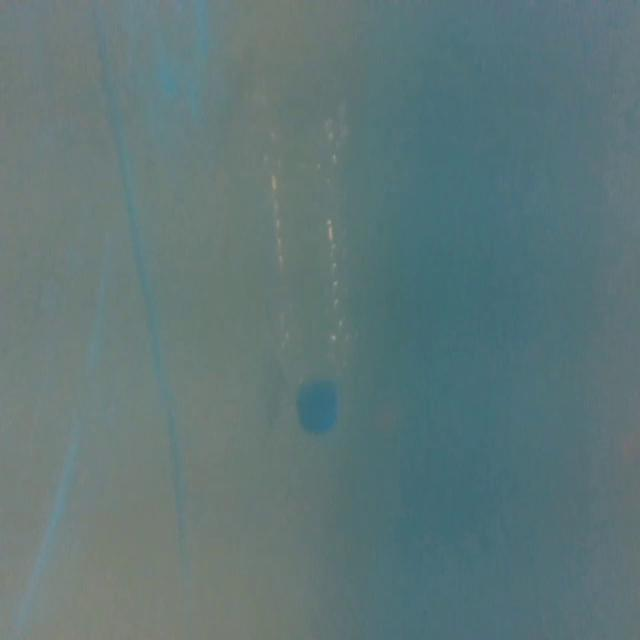plastic bottle: (255, 80, 366, 441)
